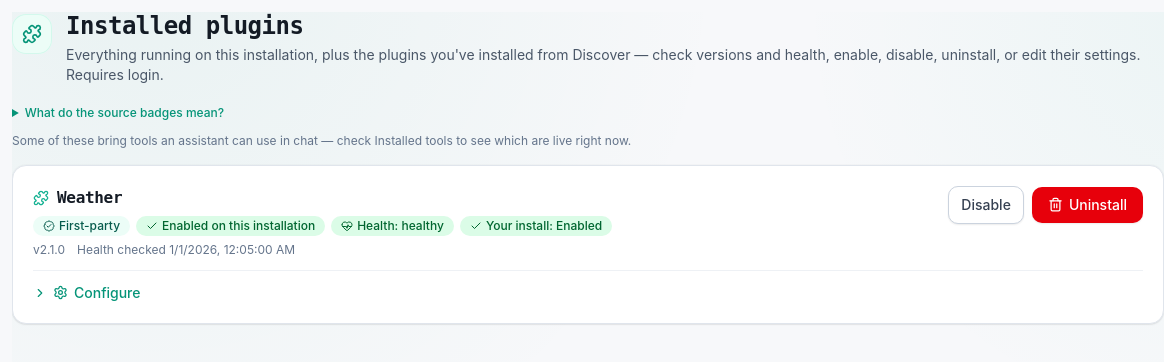
InstalledPluginsPage › keeps a plugin listed after uninstall when the installation still runs it
Expected: the heading "Weather" is shown, [33,188,122,207]
What coordinates should you click on to do the following:
click the button "Uninstall"
I would click on:
 (1087, 205)
Its box is [1032,187,1143,223].
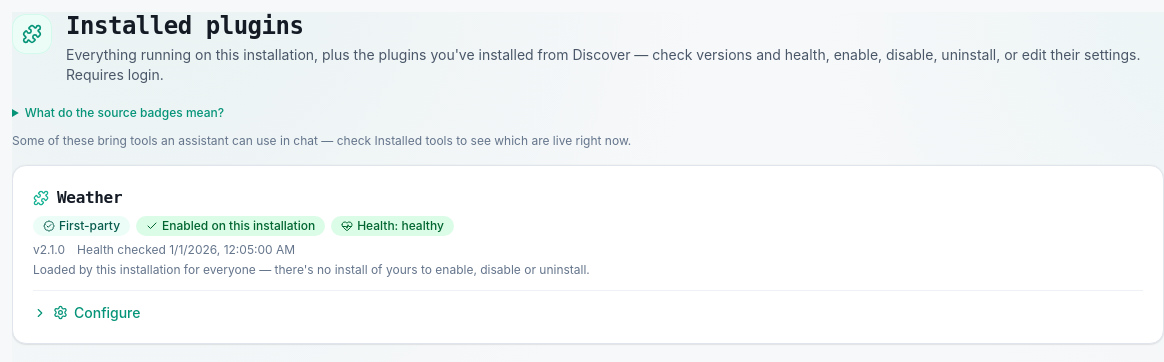
Expected: the button "Uninstall" is not shown
Result: the text "no install of yours" is shown at [33,262,590,277]
